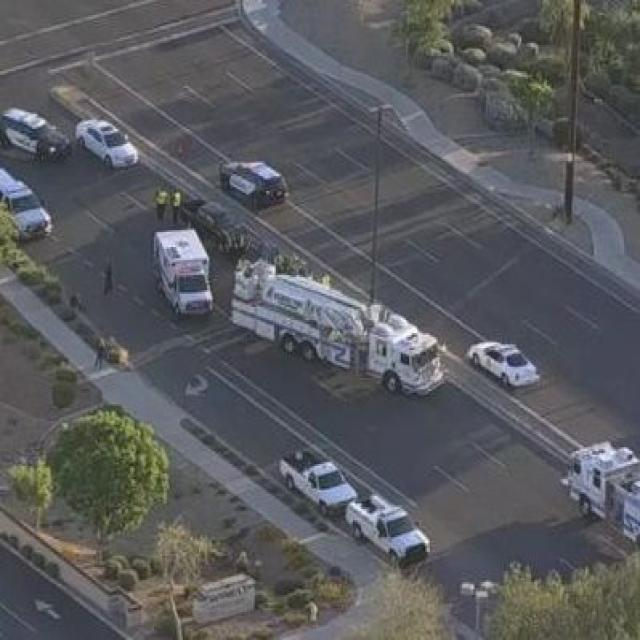traffic_incident: (224, 253, 450, 402)
